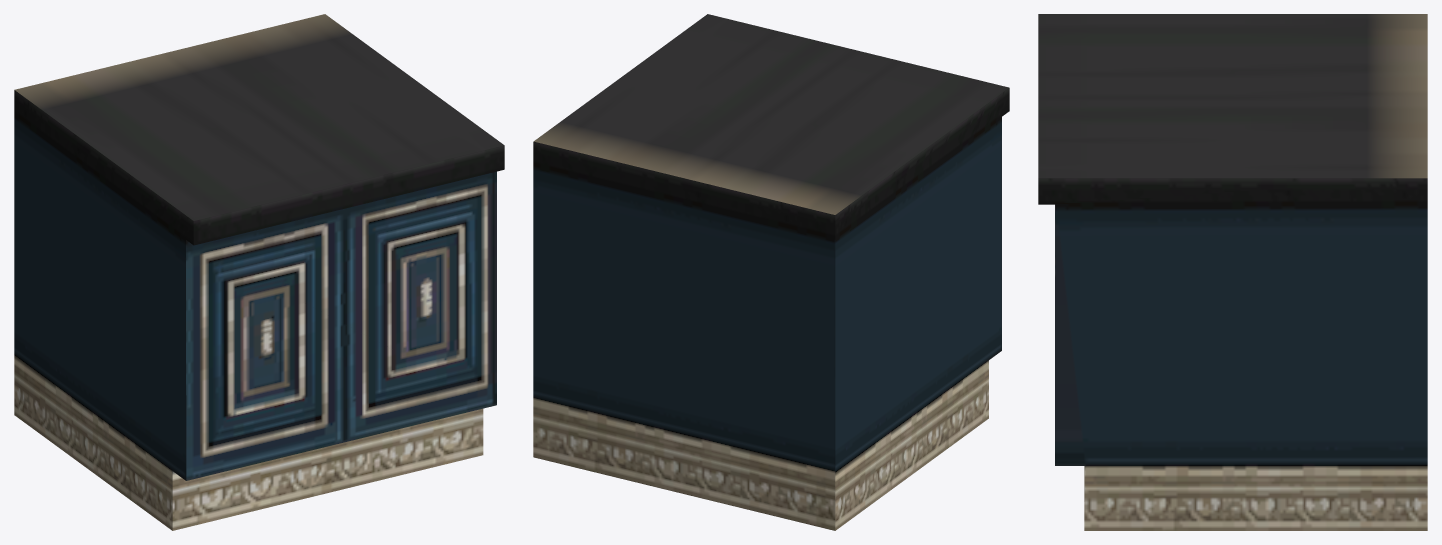
File: furni_0201122_03.FBX
3 views of the same model, side by side, from view 1: azimuth 30°, elevation 25°; view 2: azimuth 150°, elevation 25°; view 3: azimuth 270°, elevation 25° (orthographic). The views are drawn at different scales.
Visible parts, largest first — view 1: furni_0201122_03; view 2: furni_0201122_03; view 3: furni_0201122_03.
Boxes of the visible parts, box(x1,y1,x2,y2) form: furni_0201122_03: box(14, 14, 504, 530); furni_0201122_03: box(533, 14, 1009, 530); furni_0201122_03: box(1038, 14, 1427, 530).
Size of the model in its own units: 80 by 80 by 80.
Materials: 1 (1 with a texture image).
